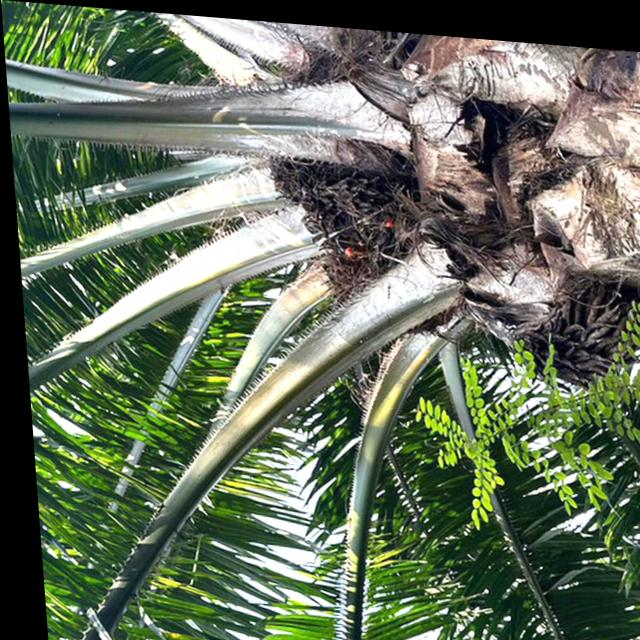ripe: (268, 157, 418, 300)
